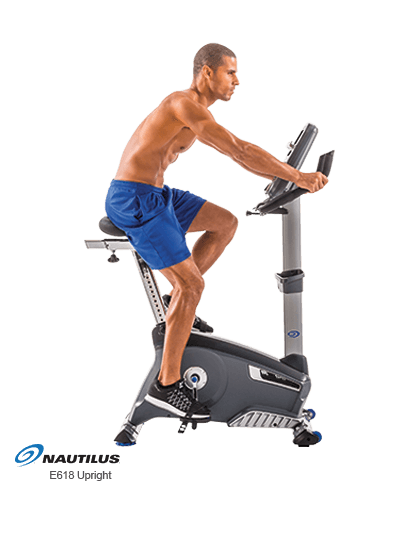gym_bike: (66, 104, 343, 452)
